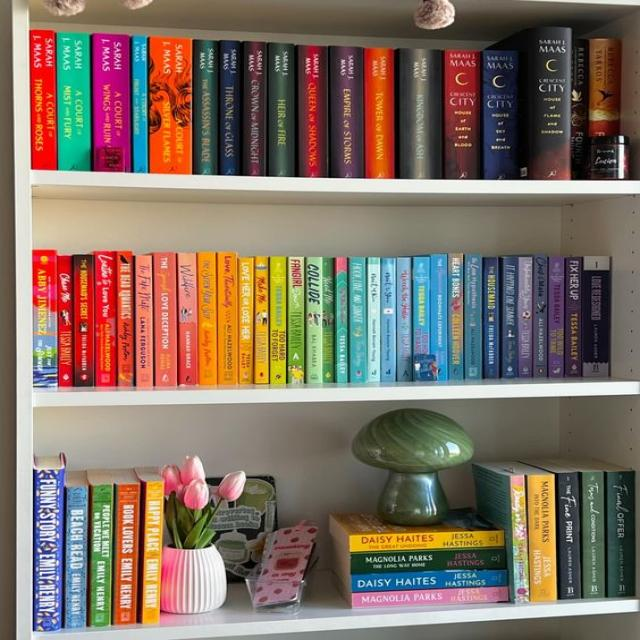book: (528, 28, 571, 178), (149, 36, 192, 174), (400, 48, 443, 178), (92, 33, 131, 171), (481, 50, 520, 180), (33, 469, 63, 632), (56, 33, 91, 171), (444, 50, 481, 179), (331, 46, 365, 177), (351, 548, 506, 574), (298, 45, 328, 177), (365, 48, 395, 179), (113, 484, 140, 625), (527, 475, 557, 601), (30, 30, 57, 169), (32, 250, 58, 387), (89, 484, 113, 627), (65, 486, 89, 628), (193, 40, 218, 175), (269, 43, 294, 177), (352, 587, 509, 608), (349, 530, 505, 551), (351, 571, 507, 592), (609, 471, 635, 597), (243, 41, 267, 176), (589, 37, 622, 135), (557, 471, 582, 599), (142, 481, 164, 625), (584, 256, 609, 376), (219, 40, 241, 175), (155, 253, 177, 387), (217, 251, 238, 385), (583, 471, 605, 598), (95, 250, 115, 387), (74, 254, 94, 386), (571, 39, 589, 179), (130, 35, 148, 172), (199, 252, 217, 385), (179, 253, 197, 385), (510, 475, 528, 604), (117, 251, 134, 386), (349, 257, 367, 383), (57, 255, 74, 387), (137, 255, 153, 386), (466, 253, 482, 379), (306, 257, 322, 383), (270, 256, 286, 382), (431, 255, 447, 380), (289, 256, 304, 384), (448, 253, 463, 380), (566, 258, 582, 377), (239, 258, 254, 384), (397, 258, 412, 382), (380, 258, 395, 382), (502, 257, 517, 379), (549, 255, 564, 377), (484, 257, 499, 379), (414, 258, 429, 380), (519, 257, 533, 378), (255, 256, 268, 383), (534, 255, 547, 378), (368, 258, 380, 382), (336, 257, 347, 383), (323, 258, 334, 382)
